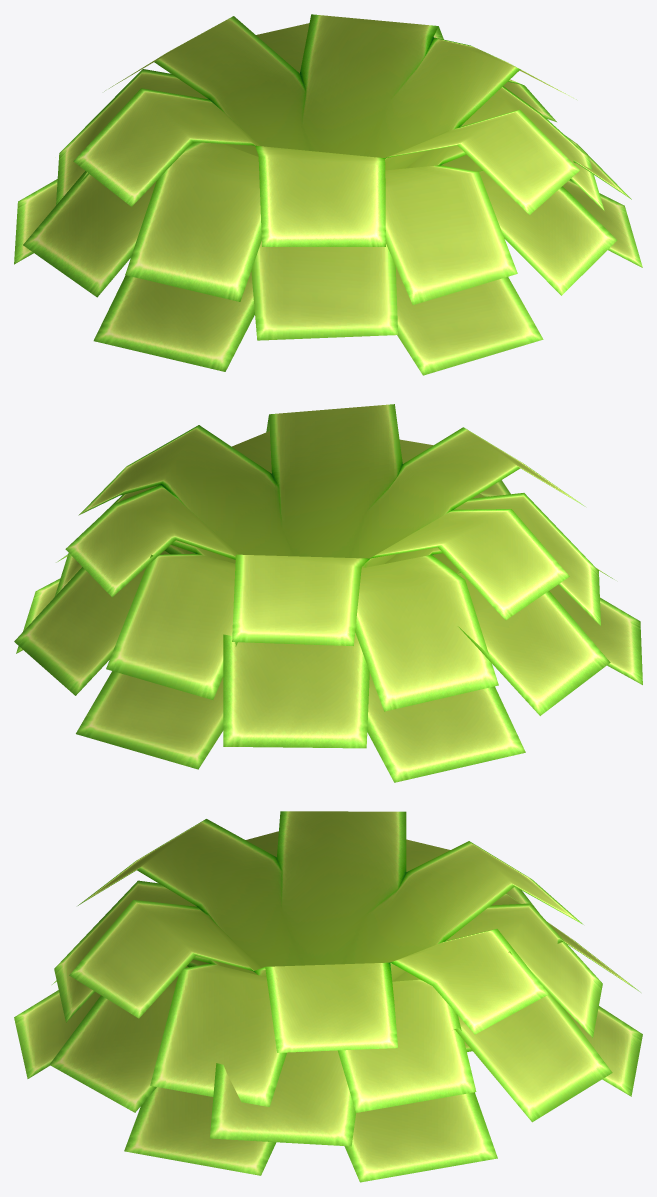
File: SM_Plant_01_B.glb
3 renders of one model, top to bottom at view 1: azimuth 30°, elevation 25°; view 2: azimuth 150°, elevation 25°; view 3: azimuth 270°, elevation 25°, orthographic.
Parts seen in each view (by area): view 1: SM_Plant_01_B; view 2: SM_Plant_01_B; view 3: SM_Plant_01_B.
Part boxes in pixels (<box>): SM_Plant_01_B: <box>14,14,642,375</box>; SM_Plant_01_B: <box>14,404,642,782</box>; SM_Plant_01_B: <box>14,811,642,1182</box>.
Size of the model in its own units: 0.8229 by 0.2765 by 0.815.
1 material, 1 textured.
